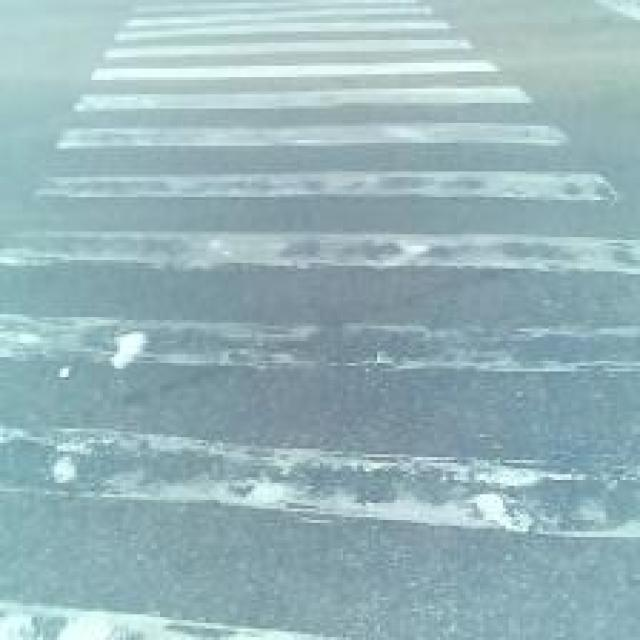zebra: (117, 17, 620, 640)
